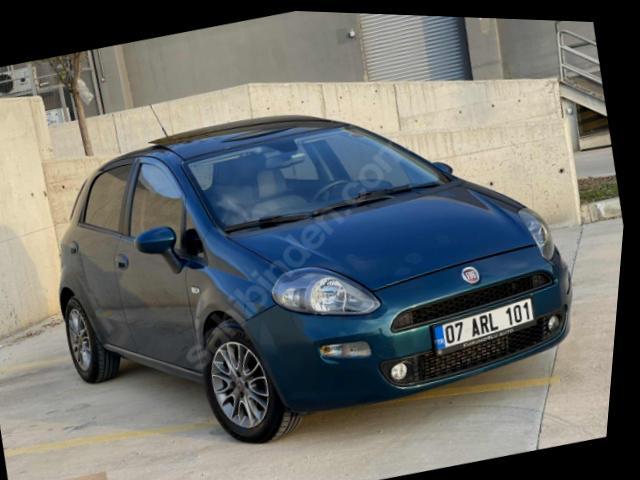plaka: (433, 296, 534, 351)
